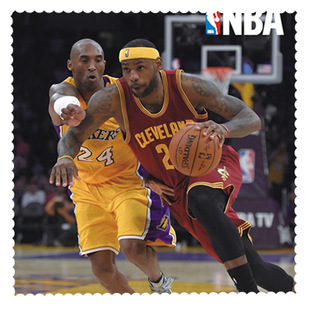ball: (169, 124, 222, 176)
